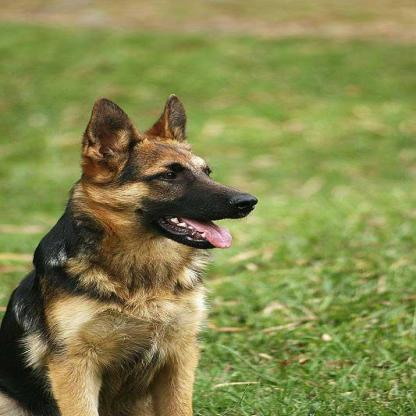dog: (3, 92, 264, 415)
